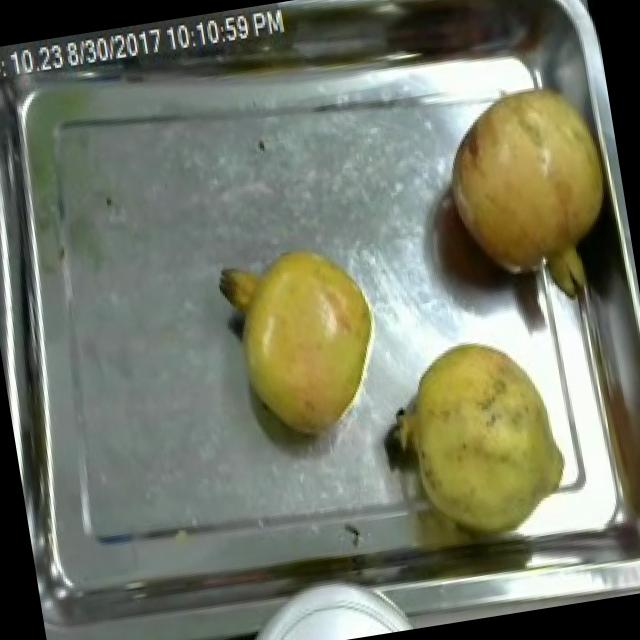fruit: (425, 62, 631, 304), (372, 319, 582, 555), (212, 225, 400, 462)
